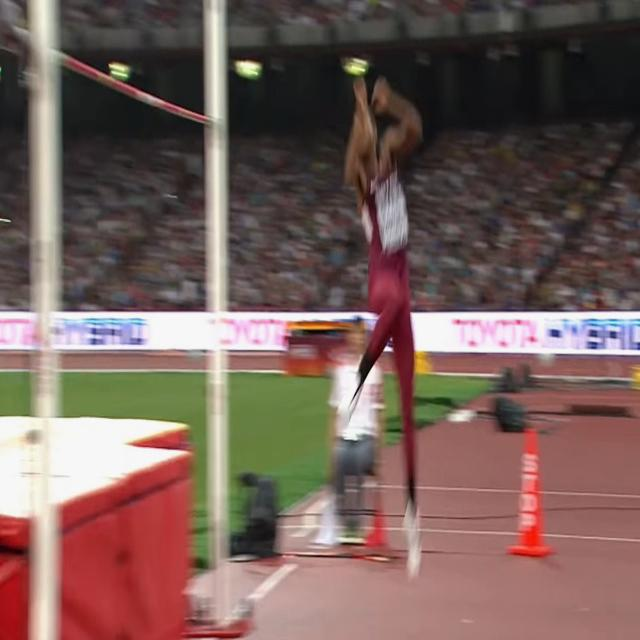jump: (338, 76, 420, 576)
